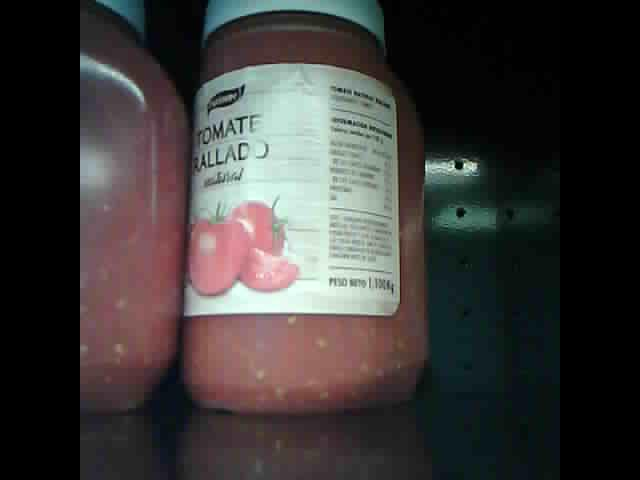tomate: (183, 2, 426, 413), (83, 7, 189, 413)
